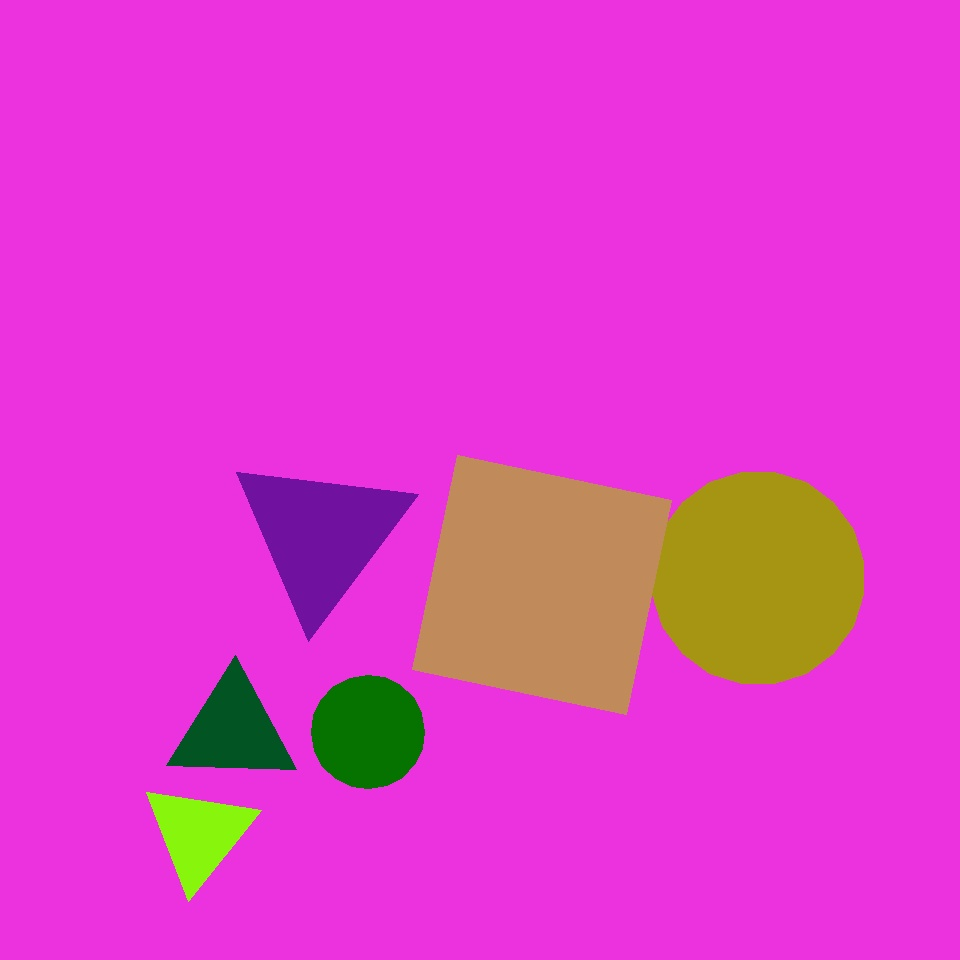circle: (230, 452, 412, 620), (168, 673, 298, 787), (142, 780, 256, 890)
square: (412, 456, 672, 714), (477, 562, 706, 790), (145, 510, 373, 738)
triangle: (652, 472, 864, 684), (312, 676, 424, 788), (600, 402, 694, 496)
